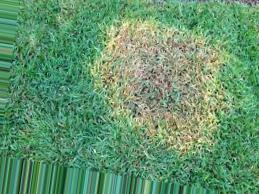patch: (128, 36, 197, 108), (160, 113, 195, 128), (110, 59, 121, 78)
